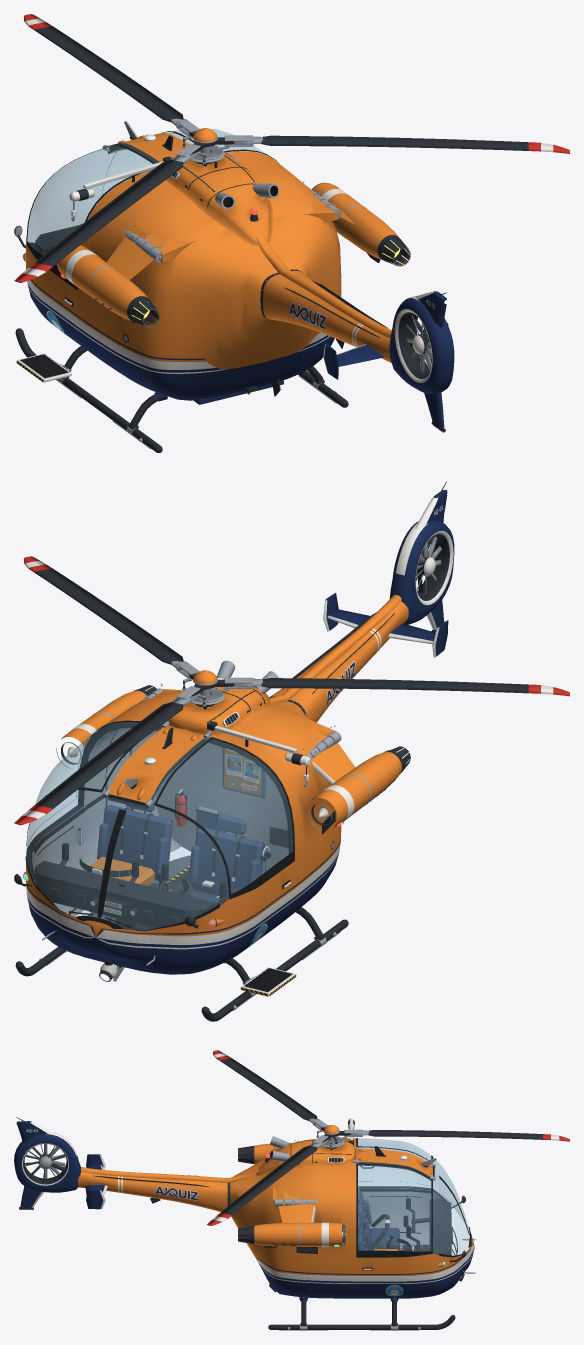
File: helicopter_boarding.glb
3 views of the same model, one above another, from view 1: azimuth 30°, elevation 25°; view 2: azimuth 150°, elevation 25°; view 3: azimuth 270°, elevation 25° (orthographic). The views are drawn at different scales.
Parts seen in each view (by area): view 1: Body, MainRotorBlades, Door_L, Windows, JetPod_L, FrameAndSkids, JetPod_R, MainRotor, JetNozzle_R, JetNozzle_L, Interior; view 2: Body, Interior, Windows, Door_L, MainRotorBlades, Door_R, JetPod_L, FrameAndSkids, MainRotor, JetPod_R, Booster_R; view 3: Body, Door_R, Door_L, MainRotorBlades, Interior, JetPod_R, Windows, FrameAndSkids, MainRotor, TailRotor.
Boxes of the visible parts, x1=… form: Body: x1=14, y1=121, x2=454, y2=432; MainRotorBlades: x1=14, y1=14, x2=569, y2=282; Door_L: x1=26, y1=143, x2=158, y2=355; Windows: x1=25, y1=135, x2=193, y2=252; JetPod_L: x1=56, y1=229, x2=162, y2=323; FrameAndSkids: x1=15, y1=328, x2=348, y2=452; JetPod_R: x1=307, y1=182, x2=403, y2=262; MainRotor: x1=171, y1=118, x2=262, y2=164; JetNozzle_R: x1=381, y1=237, x2=410, y2=266; JetNozzle_L: x1=130, y1=298, x2=160, y2=327; Interior: x1=35, y1=151, x2=131, y2=264; Body: x1=14, y1=481, x2=454, y2=981; Interior: x1=35, y1=729, x2=288, y2=930; Windows: x1=23, y1=790, x2=228, y2=930; Door_L: x1=151, y1=737, x2=294, y2=967; MainRotorBlades: x1=14, y1=556, x2=569, y2=825; Door_R: x1=26, y1=720, x2=162, y2=910; JetPod_L: x1=307, y1=731, x2=403, y2=829; FrameAndSkids: x1=15, y1=907, x2=348, y2=1021; MainRotor: x1=171, y1=661, x2=262, y2=706; JetPod_R: x1=56, y1=688, x2=163, y2=768; Booster_R: x1=84, y1=856, x2=154, y2=885; Body: x1=14, y1=1117, x2=476, y2=1298; Door_R: x1=356, y1=1162, x2=432, y2=1297; Door_L: x1=356, y1=1138, x2=432, y2=1240; MainRotorBlades: x1=207, y1=1050, x2=569, y2=1225; Interior: x1=358, y1=1165, x2=457, y2=1255; JetPod_R: x1=250, y1=1199, x2=346, y2=1247; Windows: x1=432, y1=1157, x2=469, y2=1266; FrameAndSkids: x1=268, y1=1297, x2=455, y2=1330; MainRotor: x1=309, y1=1118, x2=369, y2=1148; TailRotor: x1=25, y1=1144, x2=65, y2=1178.
Bounding box in the file's own units: 9.24 × 4.5 × 12.36.
Materials: 19 (3 with a texture image).
